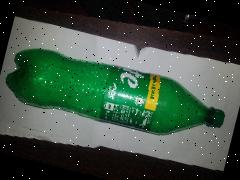plastic: (0, 39, 230, 153)
